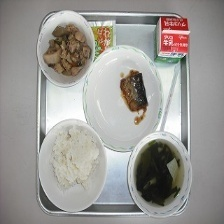rice: (45, 125, 103, 196)
